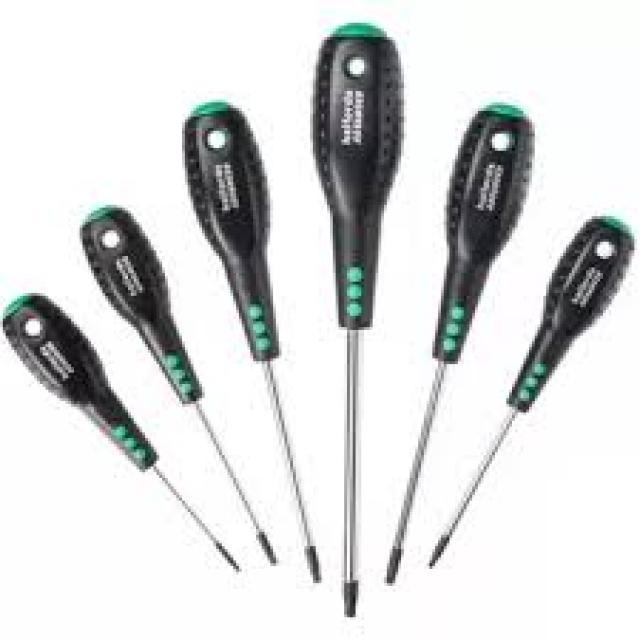screwdriver: (54, 190, 290, 576), (380, 100, 548, 592), (421, 205, 640, 578), (169, 80, 326, 594), (0, 286, 246, 596), (308, 9, 407, 628)
